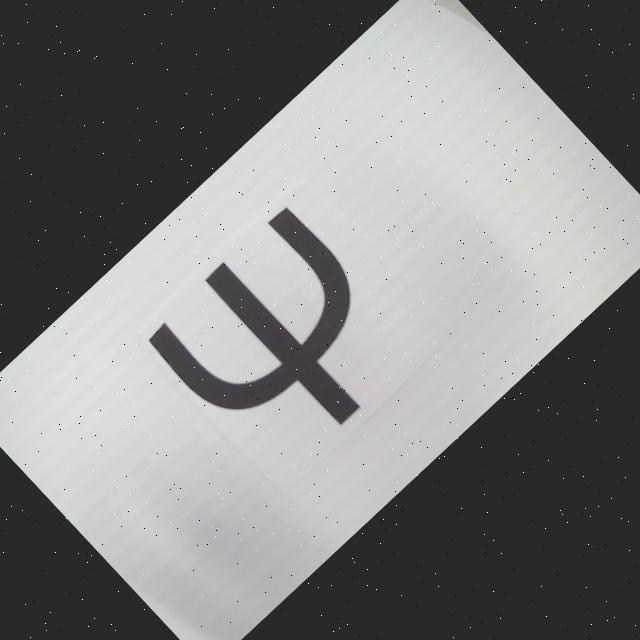PSI: (142, 202, 424, 484)
